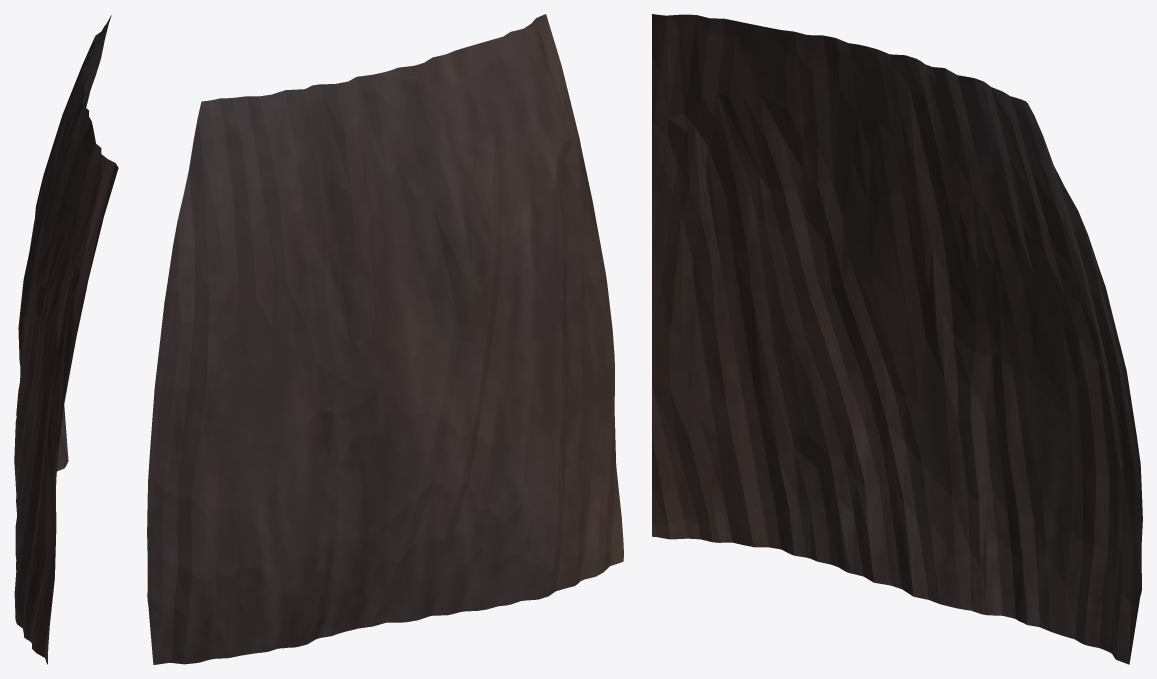
The picture shows the model from 3 angles, left to right: view 1: azimuth 30°, elevation 25°; view 2: azimuth 150°, elevation 25°; view 3: azimuth 270°, elevation 25°; orthographic projection. The views are drawn at different scales.
Size of the model in its own units: 41.9 by 85.74 by 67.73.
1 material, 1 textured.
